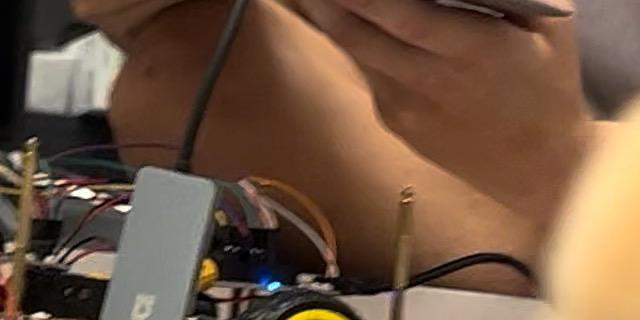burger: (465, 0, 640, 320)
